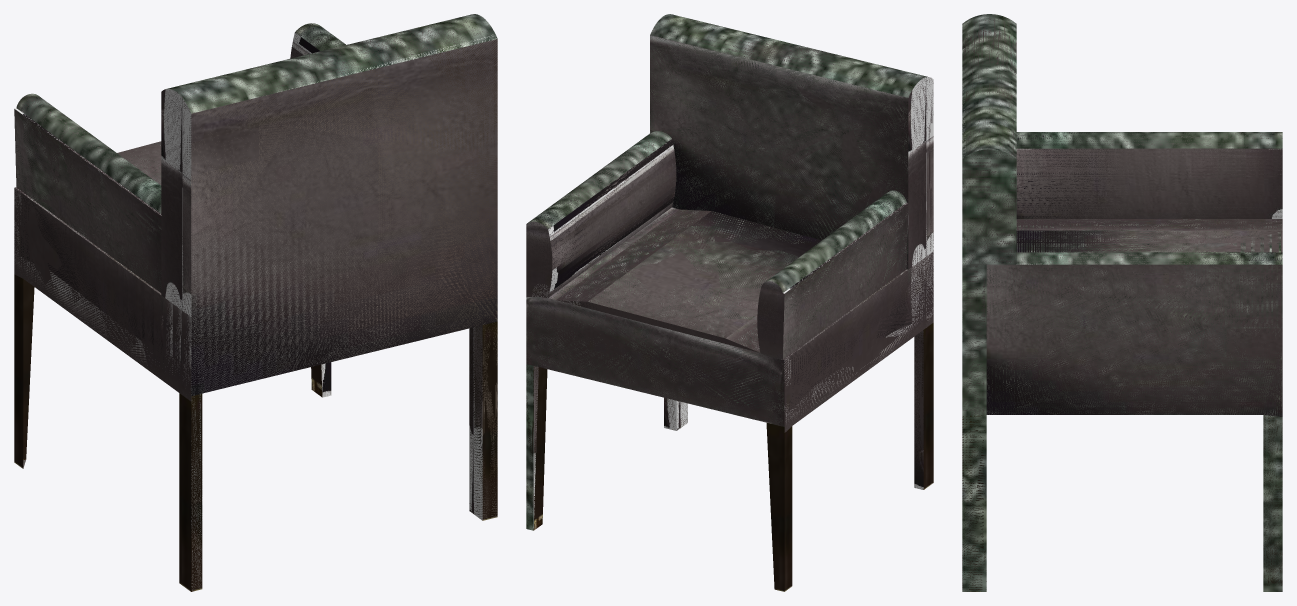
3 renders of one model, left to right at view 1: azimuth 30°, elevation 25°; view 2: azimuth 150°, elevation 25°; view 3: azimuth 270°, elevation 25°, orthographic. The views are drawn at different scales.
Parts seen in each view (by area): view 1: mesh1_mesh1-geometry; view 2: mesh1_mesh1-geometry; view 3: mesh1_mesh1-geometry.
Boxes of the visible parts, x1=… form: mesh1_mesh1-geometry: x1=14, y1=14, x2=497, y2=591; mesh1_mesh1-geometry: x1=526, y1=14, x2=933, y2=591; mesh1_mesh1-geometry: x1=962, y1=14, x2=1282, y2=591.
Bounding box in the file's own units: 0.4808 × 0.7333 × 0.4808.
